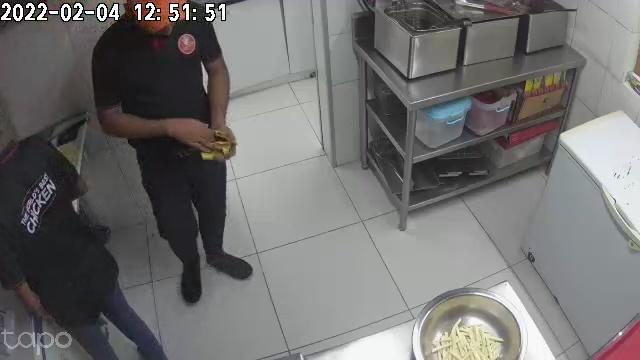no_gloves: (153, 120, 213, 151)
